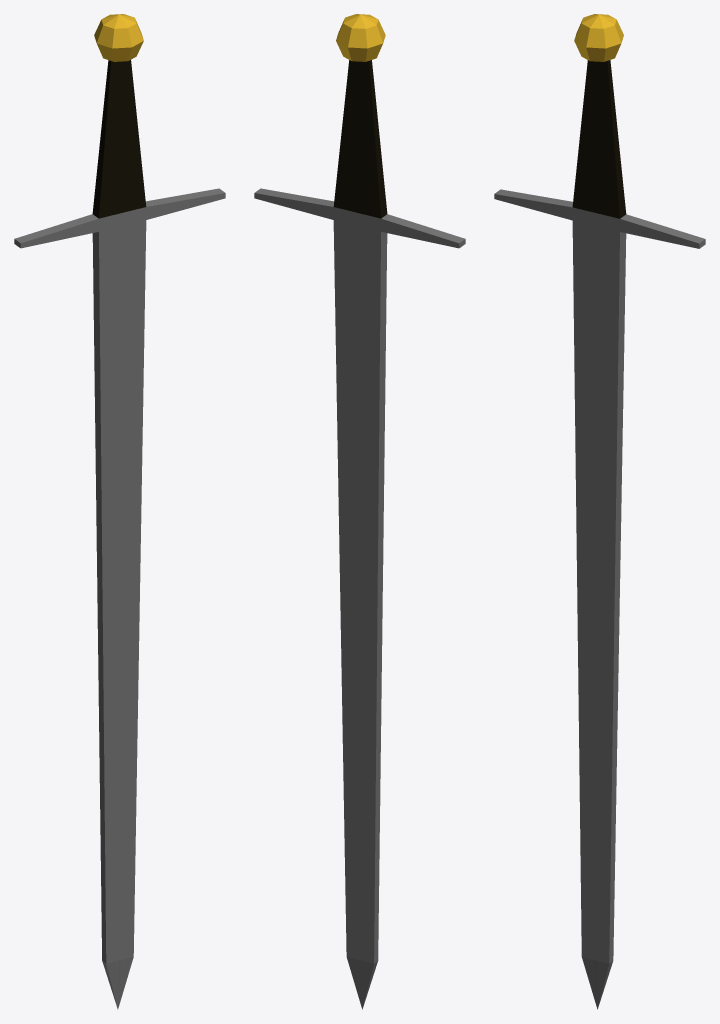
The model's file is sword.fbx.
3 views of the same model, side by side, from view 1: azimuth 30°, elevation 25°; view 2: azimuth 150°, elevation 25°; view 3: azimuth 330°, elevation 25° (orthographic).
Parts seen in each view (by area): view 1: Cube; view 2: Cube; view 3: Cube.
Boxes of the visible parts, <box> form: Cube: <box>14,14,225,1009</box>; Cube: <box>254,14,465,1009</box>; Cube: <box>494,14,705,1009</box>.
Size of the model in its own units: 91.68 by 425 by 20.
